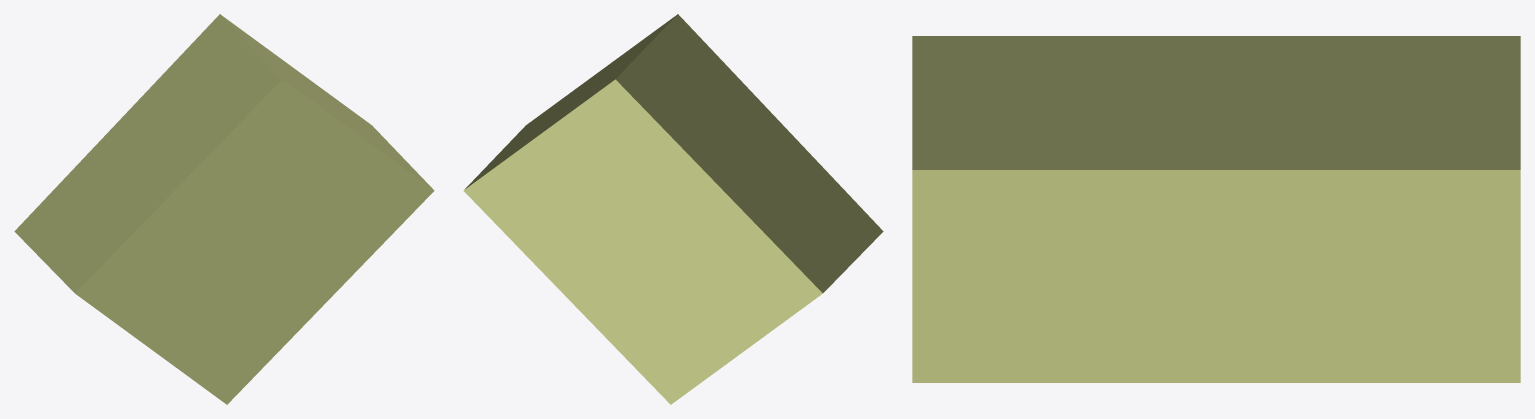
The picture shows the model from 3 angles, left to right: view 1: azimuth 30°, elevation 25°; view 2: azimuth 150°, elevation 25°; view 3: azimuth 270°, elevation 25°; orthographic projection. The views are drawn at different scales.
Visible parts, largest first — view 1: 0_1_1_3_2_2_3_3_3_2_1; view 2: 0_1_1_3_2_2_3_3_3_2_1; view 3: 0_1_1_3_2_2_3_3_3_2_1.
Boxes of the visible parts, x1=… form: 0_1_1_3_2_2_3_3_3_2_1: x1=14, y1=14, x2=434, y2=404; 0_1_1_3_2_2_3_3_3_2_1: x1=463, y1=14, x2=883, y2=404; 0_1_1_3_2_2_3_3_3_2_1: x1=912, y1=36, x2=1520, y2=382.
Size of the model in its own units: 6.1 by 5.31 by 6.
